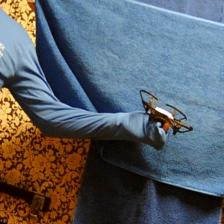drone: (135, 88, 195, 134)
